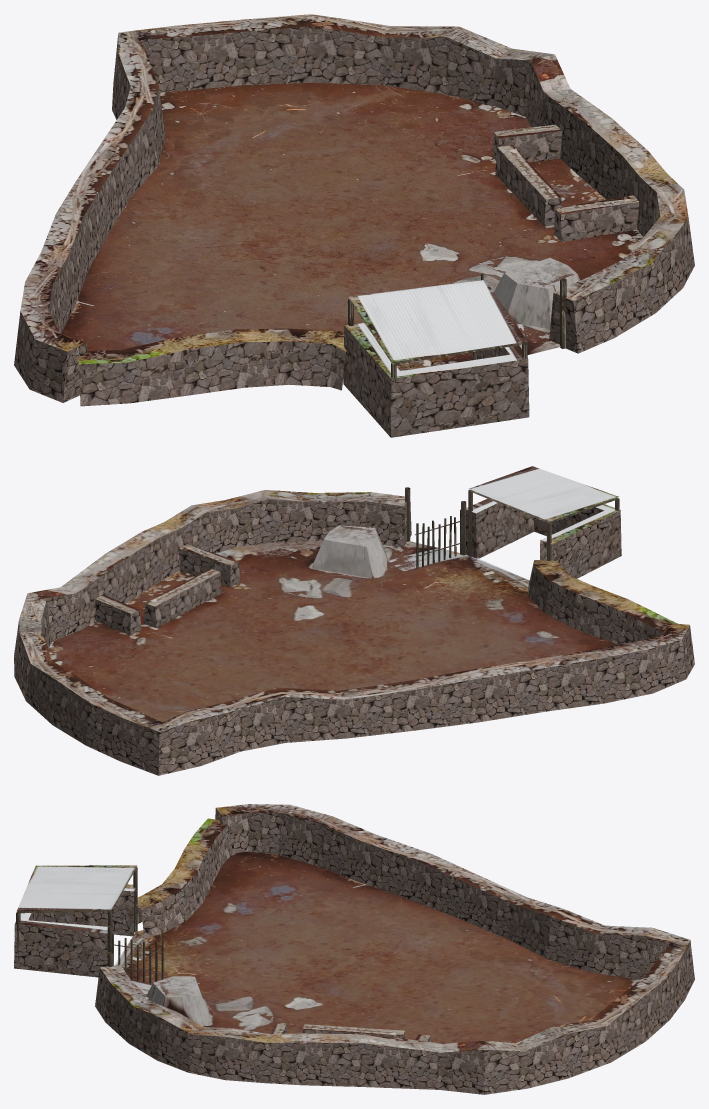
The model's file is v6-corral.glb.
3 renders of one model, top to bottom at view 1: azimuth 30°, elevation 25°; view 2: azimuth 150°, elevation 25°; view 3: azimuth 270°, elevation 25°, orthographic. The views are drawn at different scales.
Parts seen in each view (by area): view 1: v6-corral, v6-corral-piso; view 2: v6-corral, v6-corral-piso; view 3: v6-corral, v6-corral-piso.
Part boxes in pixels (box(x1,y1,x2,y2)): v6-corral: box(14, 14, 694, 437); v6-corral-piso: box(61, 82, 643, 395); v6-corral: box(14, 466, 694, 775); v6-corral-piso: box(48, 541, 617, 722); v6-corral: box(14, 804, 694, 1094); v6-corral-piso: box(114, 851, 639, 1043).
Bounding box in the file's own units: 15.39 × 1.85 × 17.33.
Materials: 3 (3 with a texture image).
